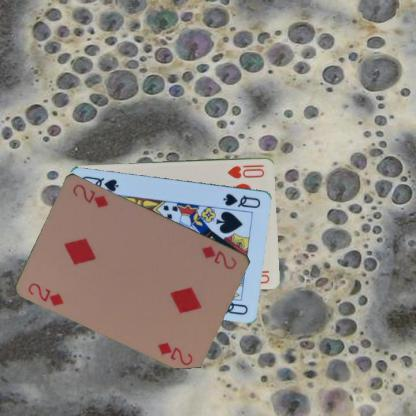10h: (225, 162, 266, 180)
2d: (25, 280, 66, 307), (199, 243, 238, 271)
Qs: (221, 191, 262, 209)
